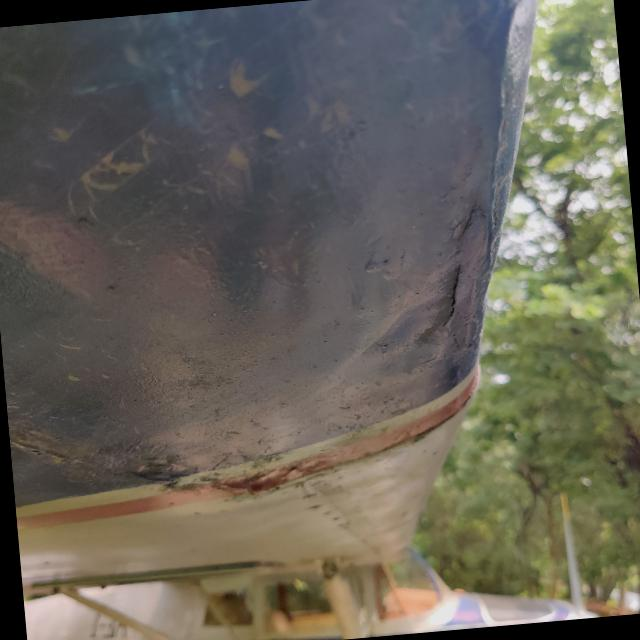dent: (323, 249, 453, 389)
